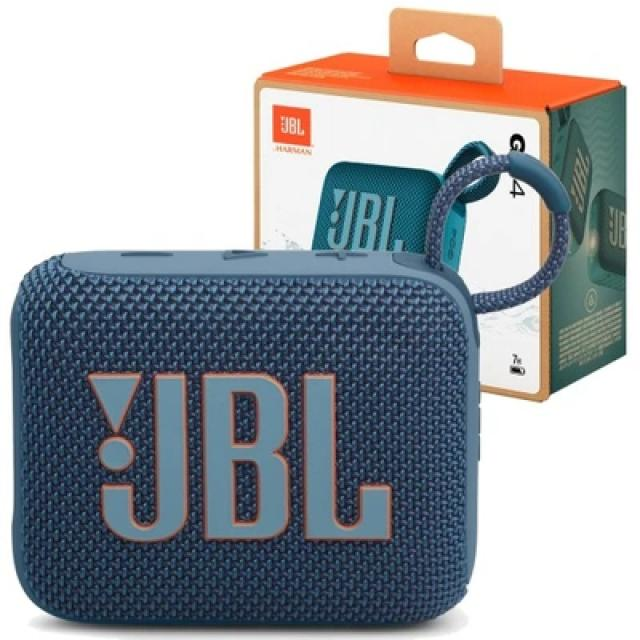column JBL: (13, 251, 511, 624)
